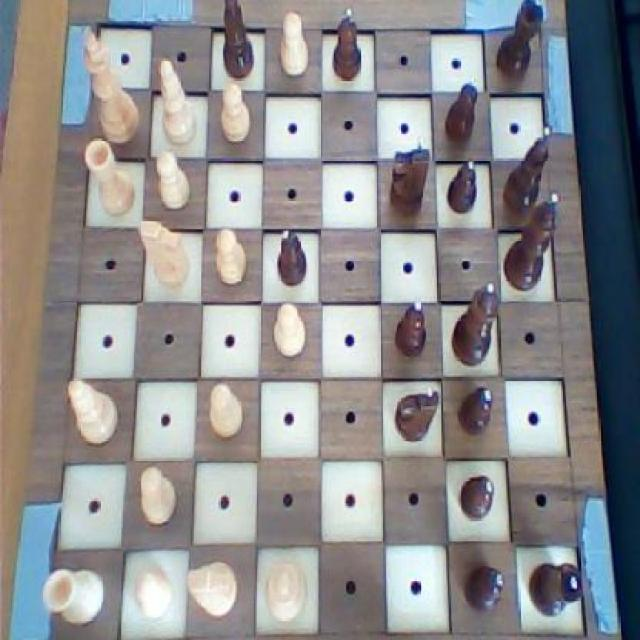bishop: (498, 125, 554, 216), (214, 0, 257, 83)
black-bishop: (500, 193, 565, 294)
black-king: (386, 134, 430, 213), (391, 384, 440, 444)
black-knight: (438, 72, 479, 146), (458, 560, 506, 618), (391, 295, 430, 360), (332, 5, 364, 80), (456, 382, 496, 442), (274, 225, 311, 288), (443, 154, 481, 213), (457, 468, 495, 523)
black-pawn: (451, 280, 501, 369)
black-queen: (490, 0, 544, 83), (526, 557, 584, 622)
black-rook: (152, 54, 205, 148), (64, 374, 124, 446)
white-bishop: (80, 29, 142, 146)
white-king: (137, 218, 192, 290), (185, 555, 240, 620)
white-knight: (132, 462, 180, 532), (132, 562, 177, 622), (277, 6, 312, 81), (210, 220, 248, 289), (206, 380, 245, 441), (219, 78, 253, 146), (156, 151, 192, 212), (272, 300, 308, 358)
white-pawn: (260, 557, 312, 625)
white-queen: (83, 135, 138, 217), (42, 559, 106, 626)
